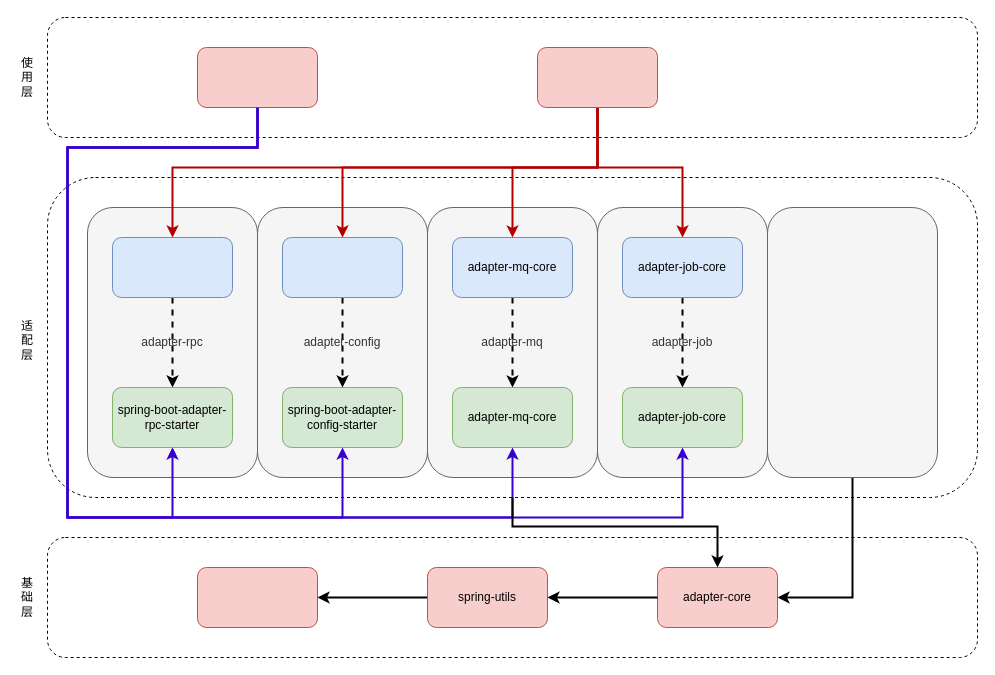
The diagram is 995 pixels wide and 675 high, and some of its shapes have lost their labels. The centre of each missing label's shape, as x and y in pixels:
adapter-config-core: pixel 342 267
adapter-rpc-core: pixel 172 267
adapter-store: pixel 852 342
boot-adapter: pixel 257 77
classic-adapter: pixel 597 77
middleware-utils: pixel 257 597
